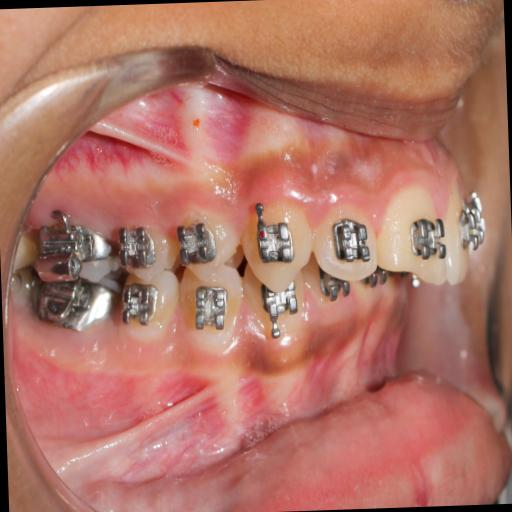correct_brace: (172, 207, 243, 286), (248, 200, 300, 270), (326, 210, 376, 270)
incorrect_brace: (310, 193, 382, 291), (173, 219, 221, 269)
